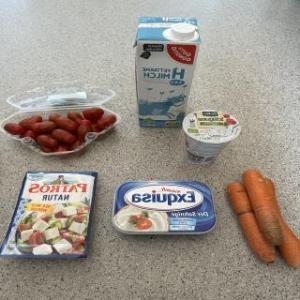carrot: (224, 174, 280, 268), (256, 172, 300, 277), (240, 166, 284, 248)
tomato: (50, 113, 80, 135), (81, 102, 107, 124), (30, 116, 60, 134), (52, 127, 80, 145)
